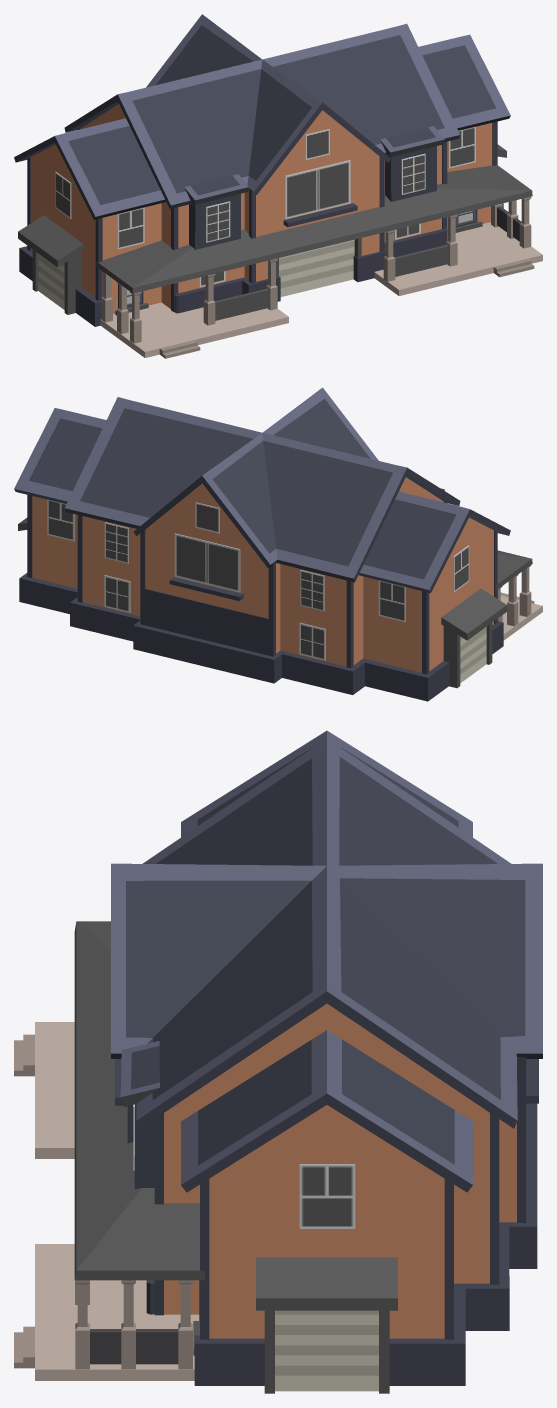
The model's file is house12_color02.fbx.
3 views of the same model, one above another, from view 1: azimuth 30°, elevation 25°; view 2: azimuth 150°, elevation 25°; view 3: azimuth 270°, elevation 25° (orthographic). The views are drawn at different scales.
Parts seen in each view (by area): view 1: house12_color02; view 2: house12_color02; view 3: house12_color02.
Part boxes in pixels (x1,y1,x2,y2): house12_color02: [14, 14, 542, 358]; house12_color02: [14, 387, 542, 701]; house12_color02: [14, 730, 542, 1393].
Bounding box in the file's own units: 2315 × 946 × 1317.
